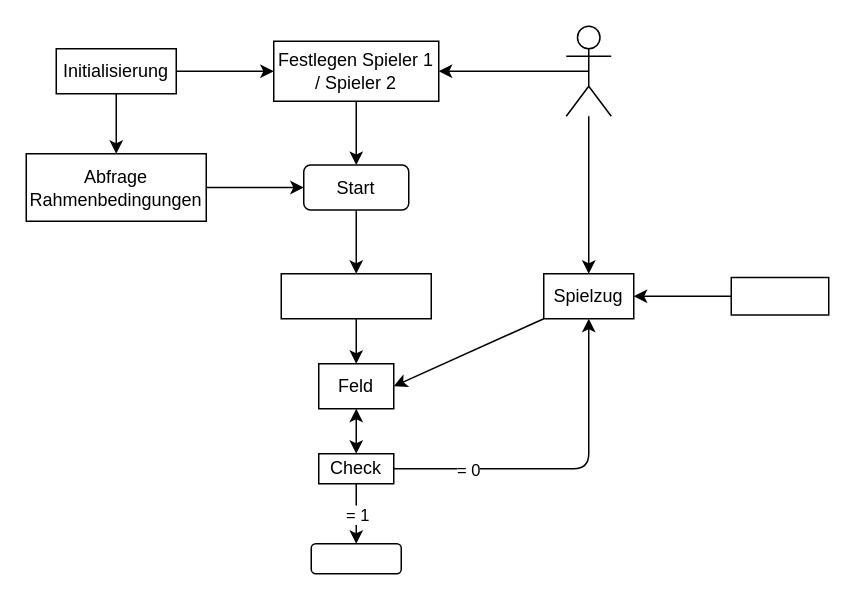
Image size: 855x600. Some labels were removed from this diagram. The shapes that lost their labels are listed below. From the top down, each one's box as (x1, y1, x2, y2) in pixels, then its label:
(280, 272, 431, 319): Feldaufbau
(730, 276, 829, 315): Bot
(310, 542, 401, 574): Ende
